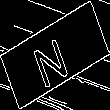N_NW: (33, 24, 77, 86)
